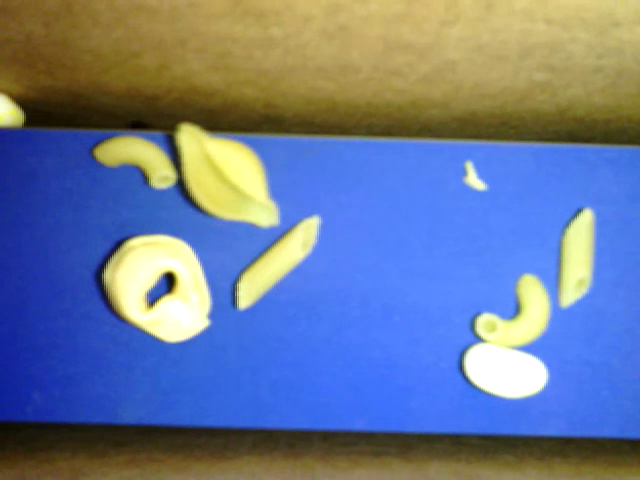elbow: (474, 273, 551, 348), (92, 134, 178, 190)
penne: (236, 214, 321, 311), (558, 208, 595, 311)
shell: (175, 123, 278, 228)
tortellini: (101, 233, 211, 343)
